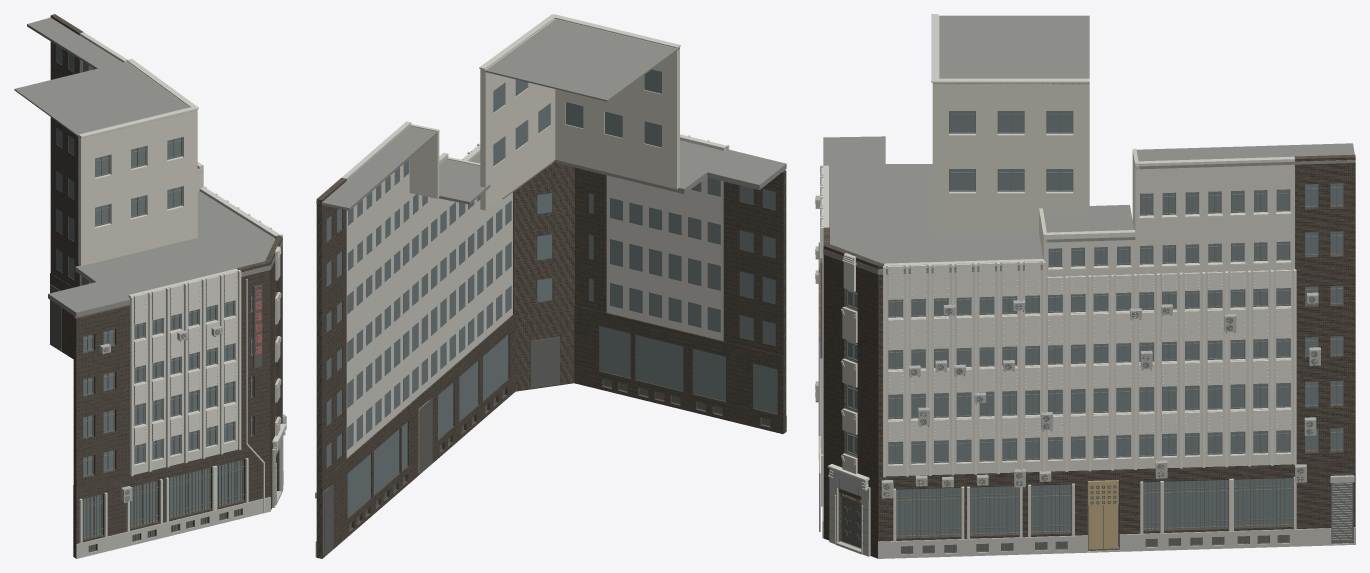
The model's file is huangpu-hengli-bank-henan-tianjin-corner-web.glb.
3 views of the same model, side by side, from view 1: azimuth 30°, elevation 25°; view 2: azimuth 150°, elevation 25°; view 3: azimuth 270°, elevation 25° (orthographic). The views are drawn at different scales.
Visible parts, largest first — view 1: 恒利银行河南中路天津路转角入口与竖窗立面; view 2: 恒利银行河南中路天津路转角入口与竖窗立面; view 3: 恒利银行河南中路天津路转角入口与竖窗立面.
Boxes of the visible parts, x1,y1,x2,y2 form: 恒利银行河南中路天津路转角入口与竖窗立面: (14, 14, 286, 558); 恒利银行河南中路天津路转角入口与竖窗立面: (315, 14, 786, 558); 恒利银行河南中路天津路转角入口与竖窗立面: (815, 14, 1355, 558).
Size of the model in its own units: 19.31 by 29.24 by 32.39.
13 materials, 1 textured.
